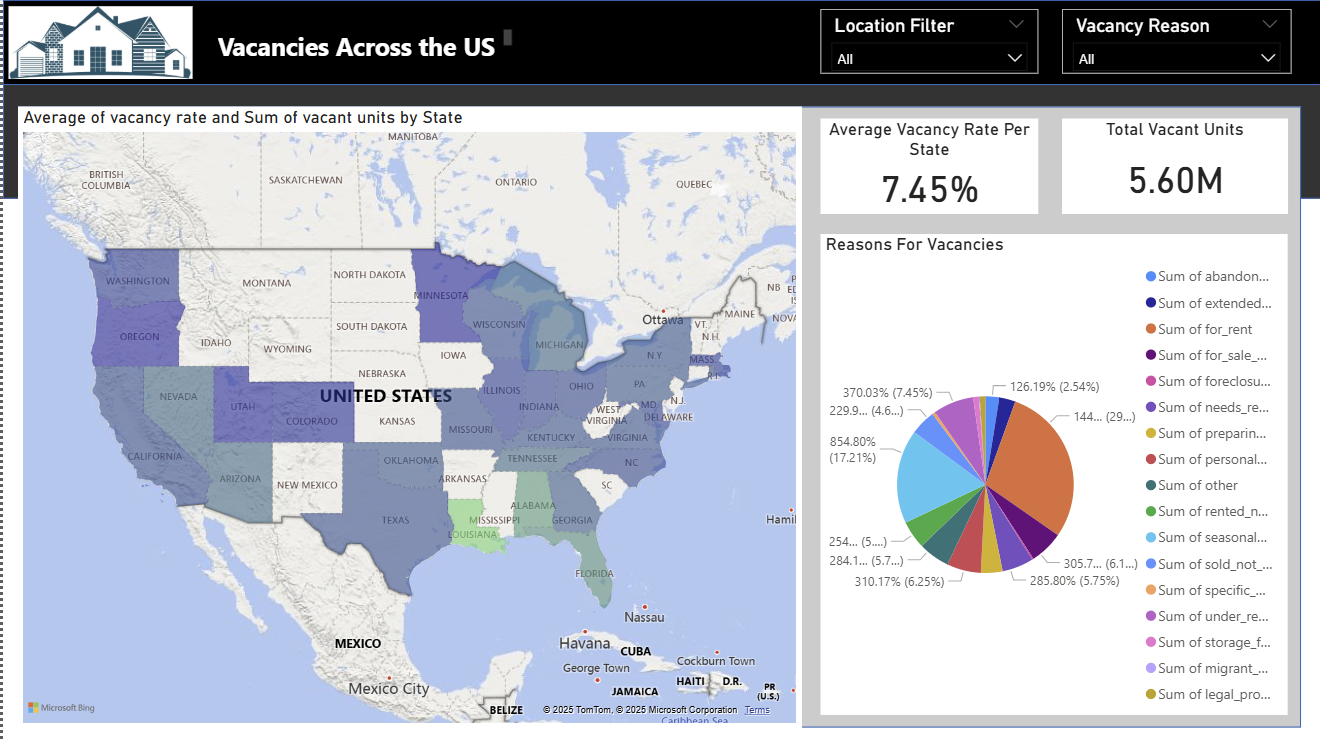

What the dashboard file says about the page in this screenshot:
{"tool":"powerbi","page":{"name":"Interactive_map","canvas":[1280,720],"ordinal":0},"visuals":[{"type":"card","title":"Total Vacant Units in US","fields":{"Values":["Sum(vacancy_data.vacant_units)"]},"box":[1028,0,251.3,103.9],"z":0},{"type":"card","title":"Average Vacancy Rate Across the US","fields":{"Values":["Avg(vacancy_data.vacancy_rate)"]},"box":[720,0,285.4,103.9],"z":1000},{"type":"shape","box":[0,0,1279.4,83.2],"z":2000},{"type":"shape","box":[0,81.3,1279.4,111.5],"z":3000},{"type":"shape","box":[15.1,103.9,1245.4,602.8],"z":4000},{"type":"filledMap","fields":{"Category":["vacancy_data.state"]},"box":[15.1,103.9,759.7,602.8],"z":5000},{"type":"slicer","fields":{"Values":["vacancy_data.metro"]},"box":[793.7,9.4,211.7,62.4],"z":6000},{"type":"slicer","fields":{"Values":["vacancy_data.top_reason"]},"box":[1028,9.4,223,62.4],"z":7000},{"type":"image","box":[0,0,189,83.2],"z":8000},{"type":"card","title":"Average Vacancy Rate Per State","fields":{"Values":["Avg(vacancy_data.vacancy_rate)"]},"box":[793.7,115.3,211.7,92.6],"z":9000},{"type":"card","title":"Total Vacant Units","fields":{"Values":["Sum(vacancy_data.vacant_units)"]},"box":[1028,115.3,219.2,92.6],"z":10000},{"type":"pieChart","title":"Reasons For Vacancies","fields":{"Y":["Sum(vacancy_data.abandoned_condemned)","Sum(vacancy_data.extended_absence)","Sum(vacancy_data.for_rent)","Sum(vacancy_data.for_sale_only)","Sum(vacancy_data.foreclosure)","Sum(vacancy_data.needs_repairs)","Sum(vacancy_data.preparing_rent_sell)","Sum(vacancy_data.personal_family)","Sum(vacancy_data.other)","Sum(vacancy_data.rented_not_occupied)","Sum(vacancy_data.seasonal_use)","Sum(vacancy_data.sold_not_occupied)"]},"box":[793.7,226.8,453.5,466.8],"z":11000},{"type":"textbox","box":[204.1,22.7,294.8,37.8],"z":12000}]}

Visuals, with their boxes in screenshot pixels (x1, y1, x2, y2), scaled from the page's 1280x720 canvas onto the 1320x742 screenshot:
"Total Vacant Units in US" card: Rect(1060, 0, 1319, 107)
"Average Vacancy Rate Across the US" card: Rect(742, 0, 1037, 107)
shape: Rect(0, 0, 1319, 86)
shape: Rect(0, 84, 1319, 199)
shape: Rect(16, 107, 1300, 728)
filledMap - vacancy_data.state: Rect(16, 107, 799, 728)
slicer - vacancy_data.metro: Rect(819, 10, 1037, 74)
slicer - vacancy_data.top_reason: Rect(1060, 10, 1290, 74)
image: Rect(0, 0, 195, 86)
"Average Vacancy Rate Per State" card: Rect(819, 119, 1037, 214)
"Total Vacant Units" card: Rect(1060, 119, 1286, 214)
"Reasons For Vacancies" pieChart: Rect(819, 234, 1286, 715)
textbox: Rect(210, 23, 514, 62)
